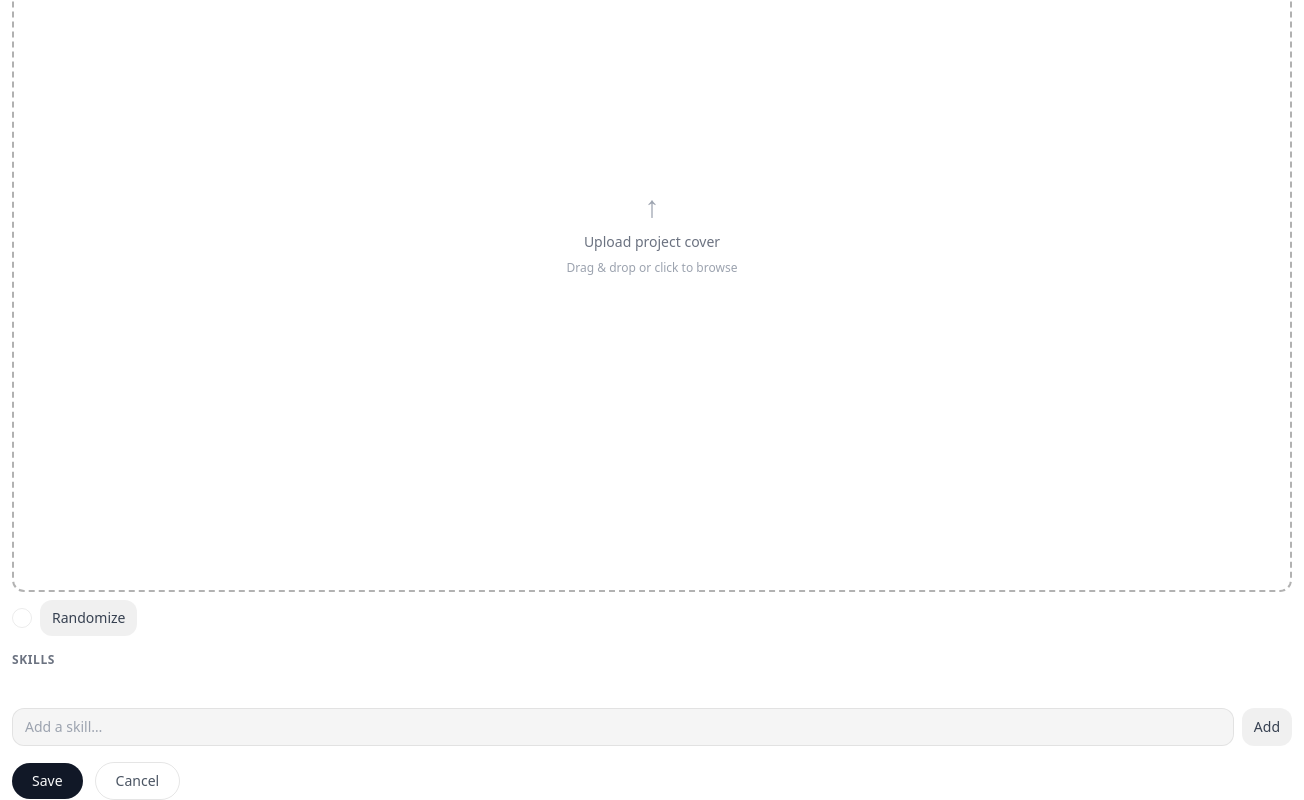
Test: ProjectForm - save error handling › shows an inline error and does not show "Saved!" when the save fails
(page scrolled)
What coordinates should you click on to do the following:
click the button "Save"
I would click on:
 (47, 781)
Its box is [12,763,83,799].
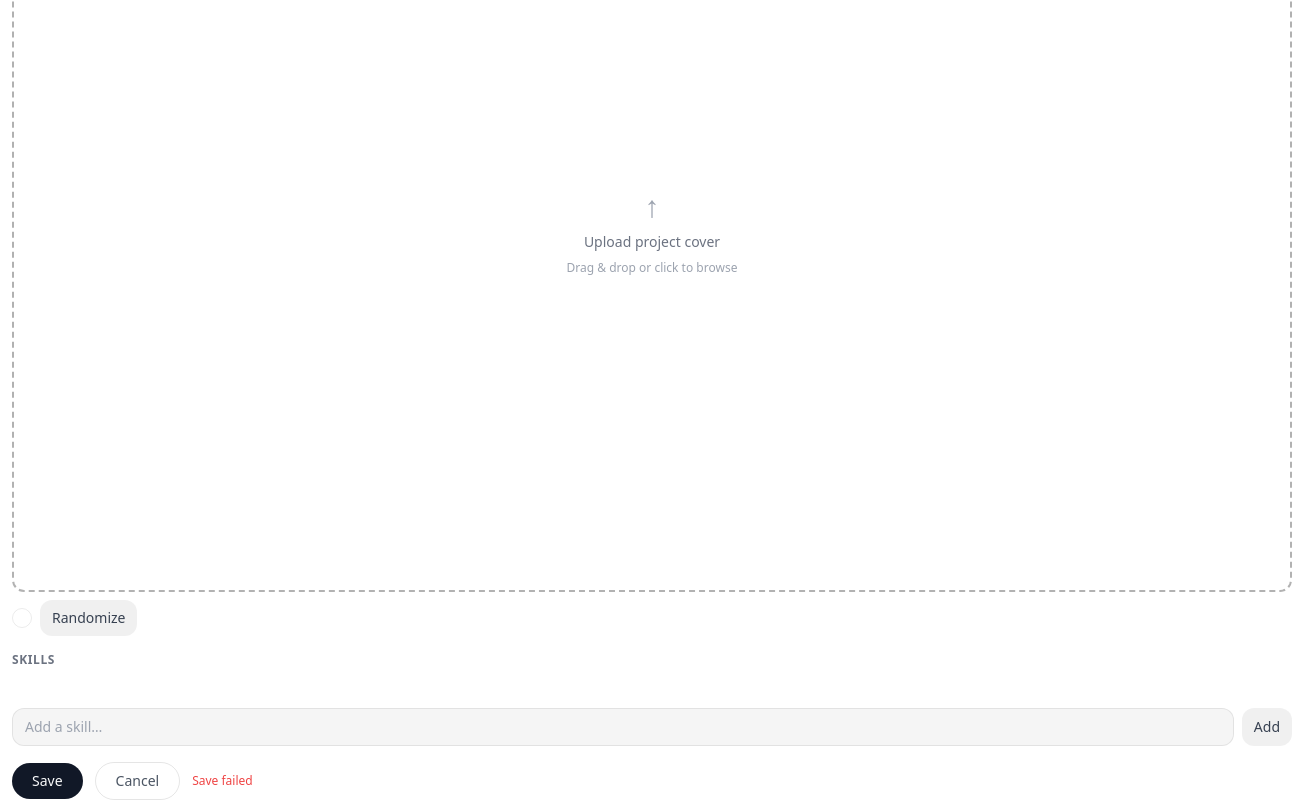
Now the text "Save failed" is shown, box [192,773,253,789]
